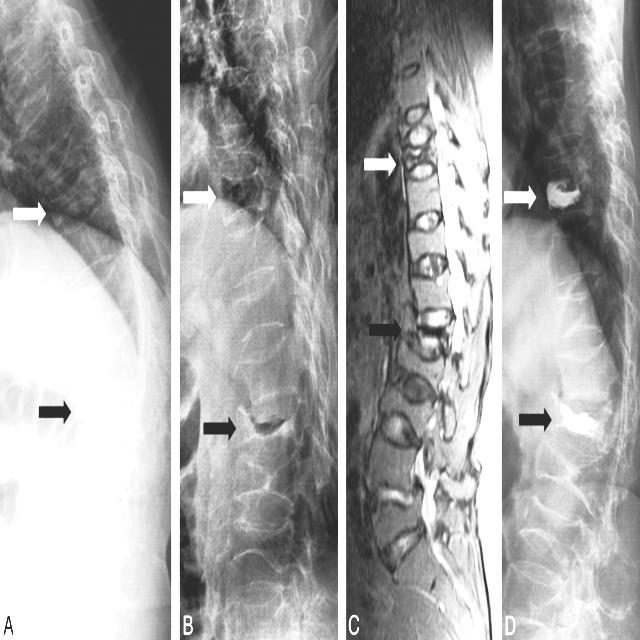Compression-Crush Fracutre: (544, 181, 591, 211), (402, 149, 441, 168)
